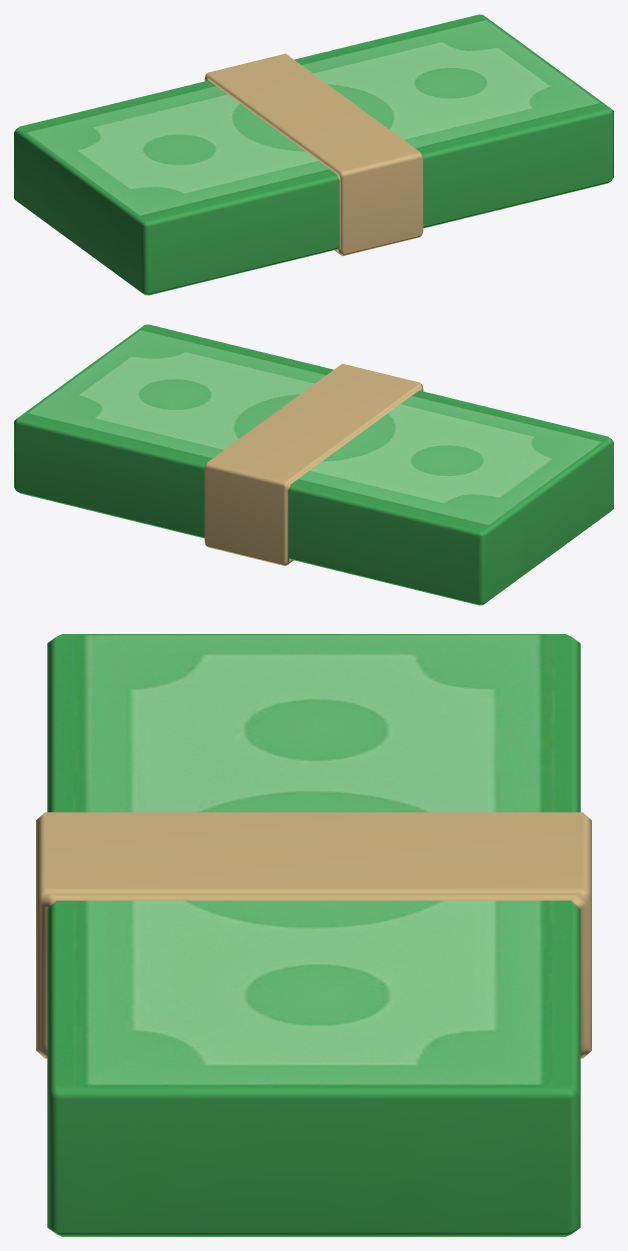
File: MDL_Money.fbx
3 views of the same model, one above another, from view 1: azimuth 30°, elevation 25°; view 2: azimuth 150°, elevation 25°; view 3: azimuth 270°, elevation 25° (orthographic). The views are drawn at different scales.
Parts seen in each view (by area): view 1: Money; view 2: Money; view 3: Money.
Part boxes in pixels (x1,y1,x2,y2): Money: [14, 14, 613, 295]; Money: [14, 324, 613, 605]; Money: [36, 634, 591, 1236].
Bounding box in the file's own units: 53.87 × 9.31 × 27.48.
